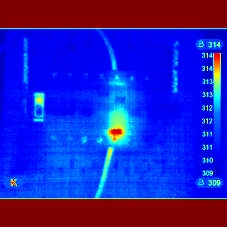Critical: (107, 110, 138, 144)
